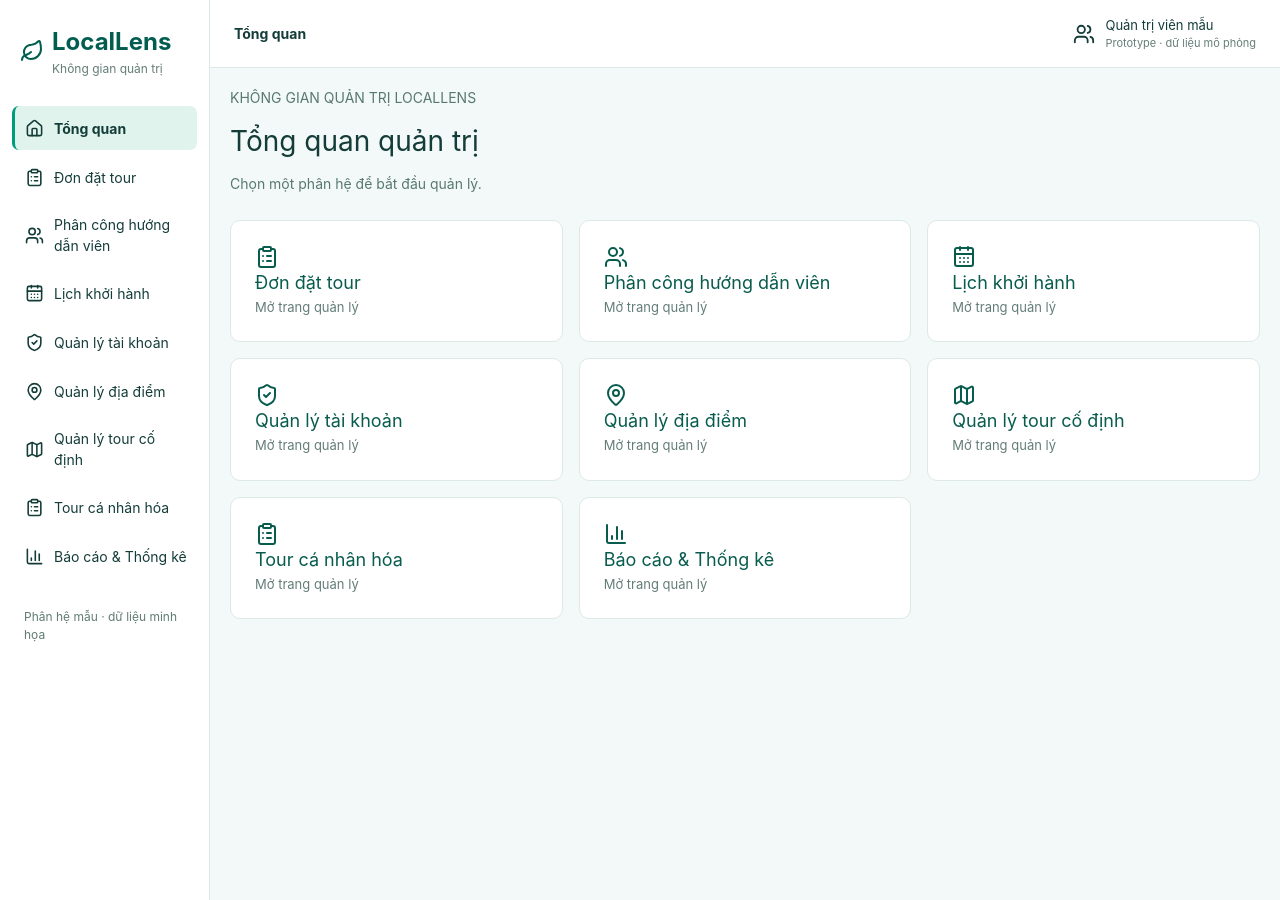
Test case: overview contains eight shortcuts that open the selected management screen
The width and height of the screenshot is (1280, 900).
Expected: the heading "Tổng quan quản trị" is shown, [230,124,479,158]
Click the button "Tour cá nhân hóa Mở trang quản lý". click: (396, 558)
box: [230,497,563,619]
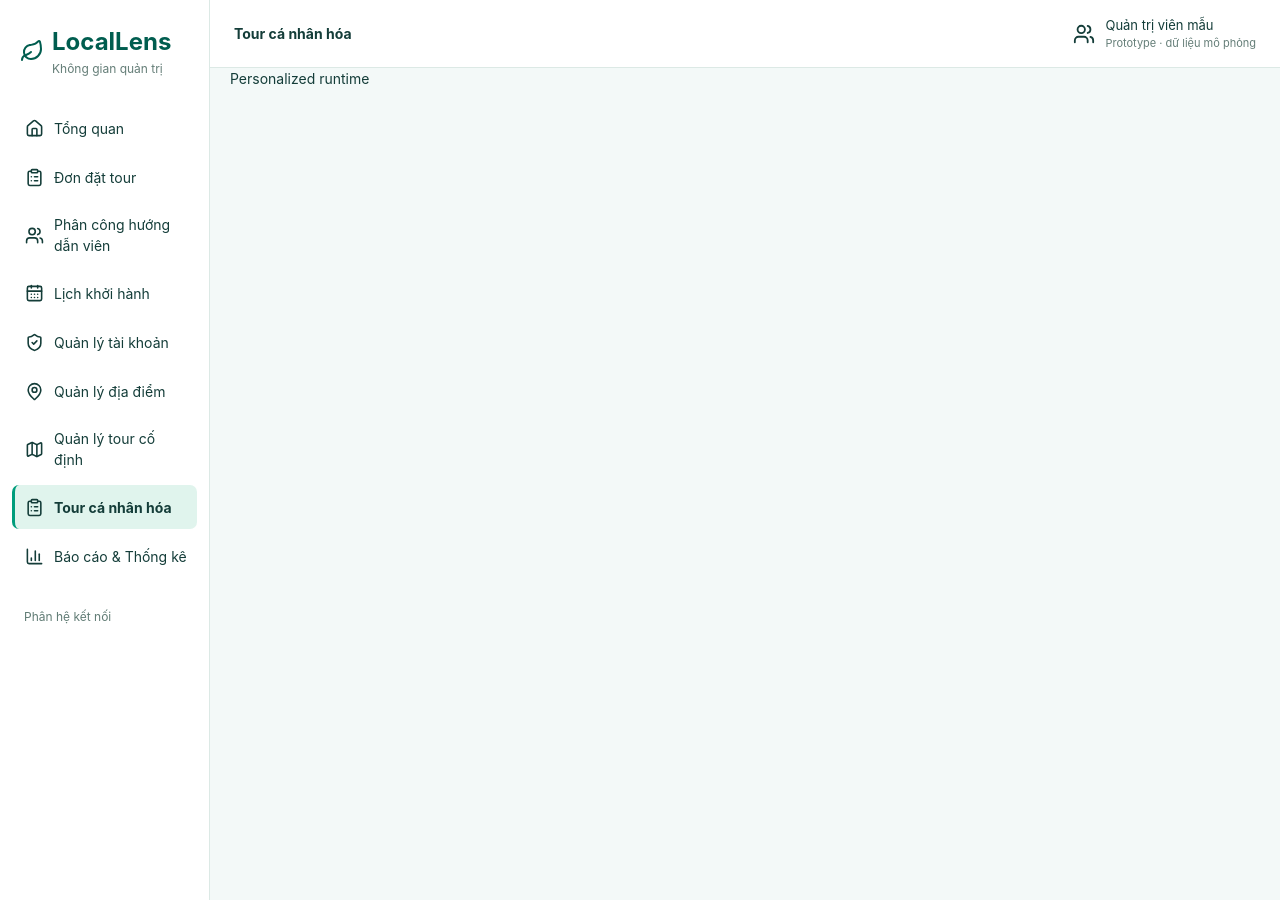
Result: the heading "Personalized runtime" is shown at [230,70,369,87]
Click the button "Tổng quan". click: (104, 128)
box: [12,106,197,150]
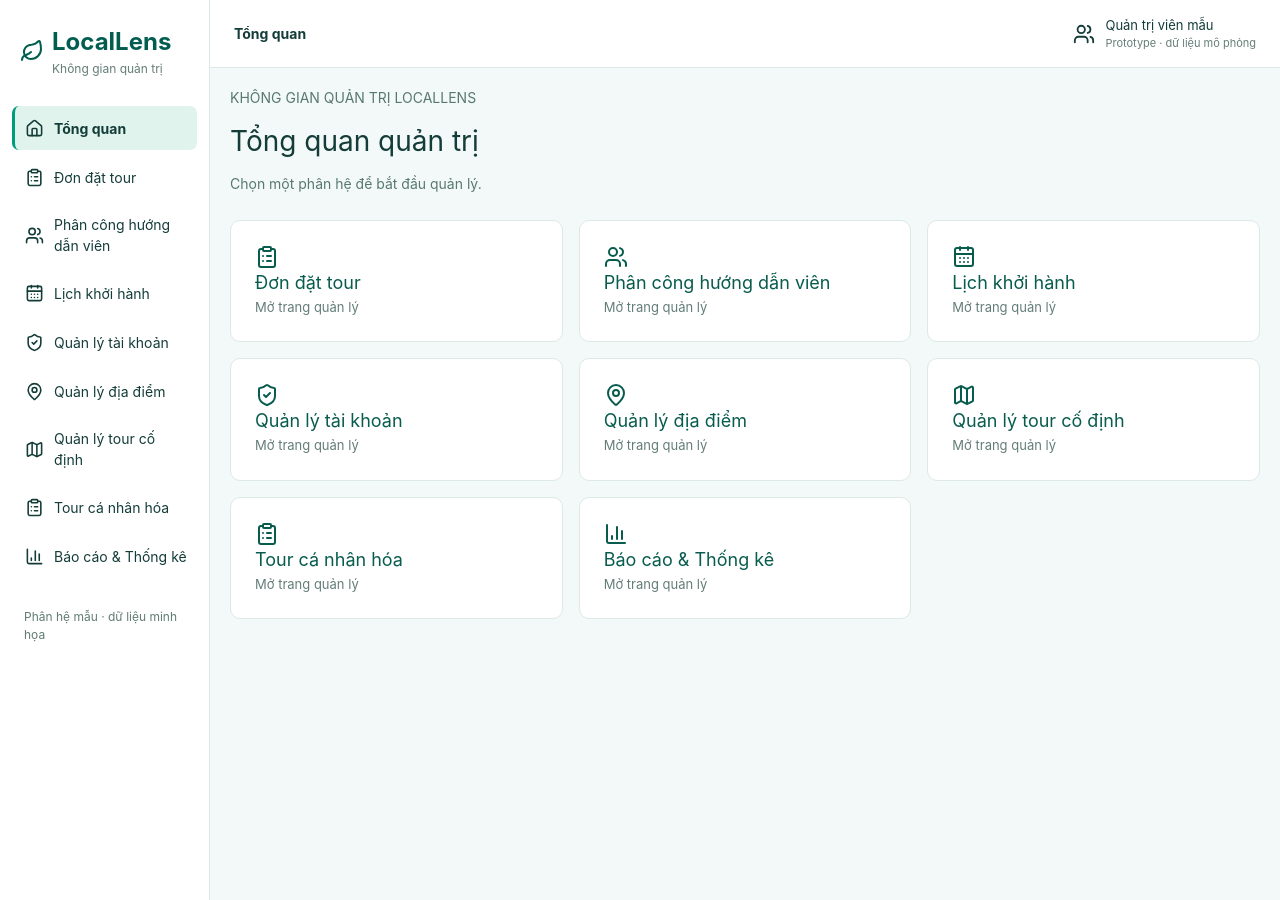
Result: the number of buttons "Đơn đặt tour Mở trang quản lý" is 8
